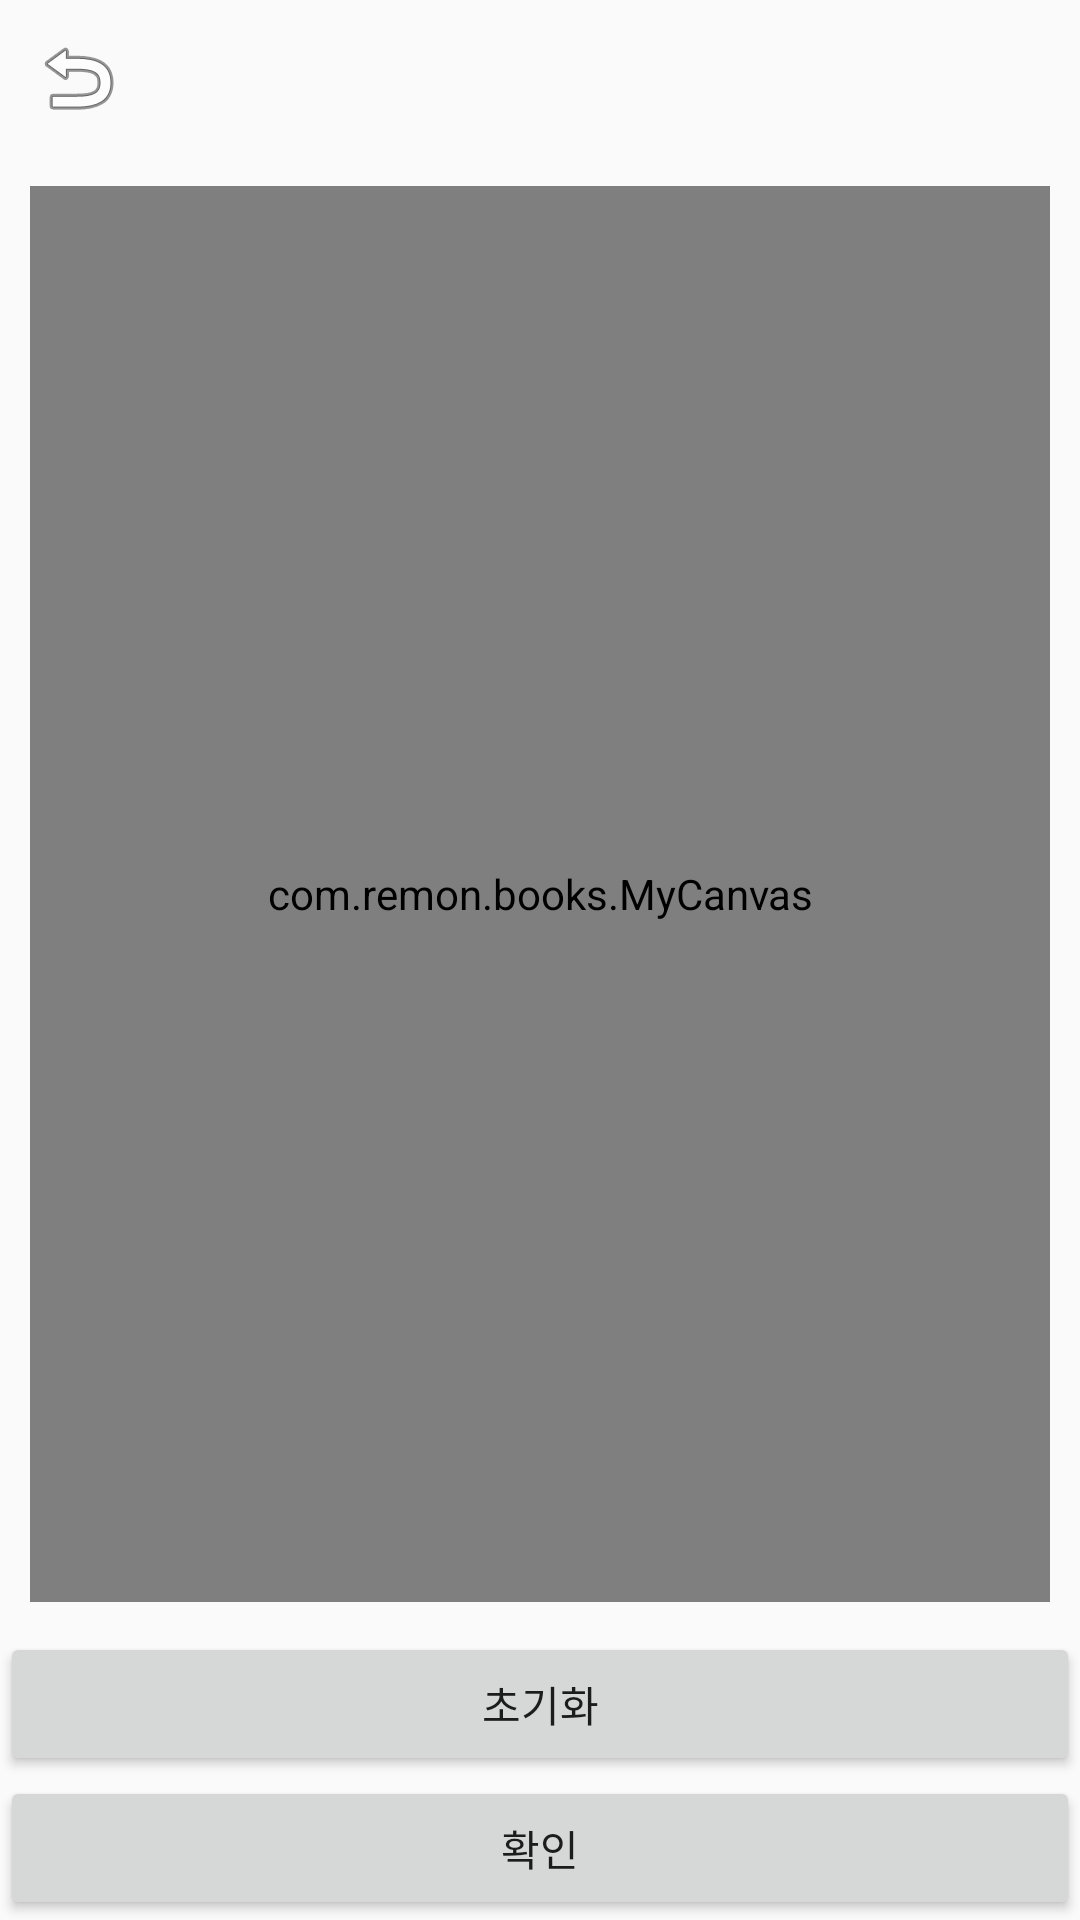

Screen size 1080×1920. Icon name, then its box in pixels as (x1, y1, x2, y2):
revert: (45, 47, 114, 110)
